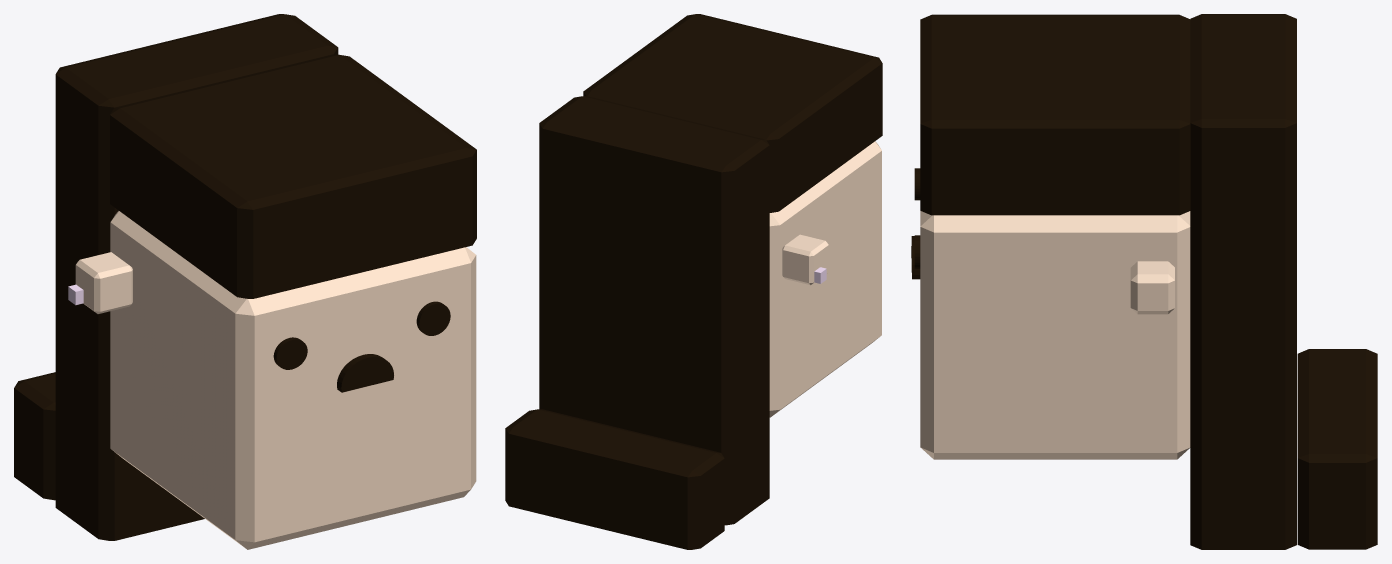
3 renders of one model, left to right at view 1: azimuth 30°, elevation 25°; view 2: azimuth 150°, elevation 25°; view 3: azimuth 270°, elevation 25°, orthographic. The views are drawn at different scales.
Parts seen in each view (by area): view 1: mullet3, face, earL, Cylinder.002, Cylinder.001, Cylinder; view 2: mullet3, face, earL; view 3: mullet3, face, earR.
Boxes of the visible parts, <box> form: mullet3: <box>14,14,476,540</box>; face: <box>110,211,476,549</box>; earL: <box>75,252,132,313</box>; Cylinder.002: <box>337,354,393,392</box>; Cylinder.001: <box>416,301,450,335</box>; Cylinder: <box>273,337,307,369</box>; mullet3: <box>505,14,882,549</box>; face: <box>769,141,881,417</box>; earL: <box>782,234,828,285</box>; mullet3: <box>920,14,1377,549</box>; face: <box>920,211,1190,459</box>; earR: <box>1130,261,1174,314</box>.
Bounding box in the file's own units: 1.99 × 2.57 × 2.53.
